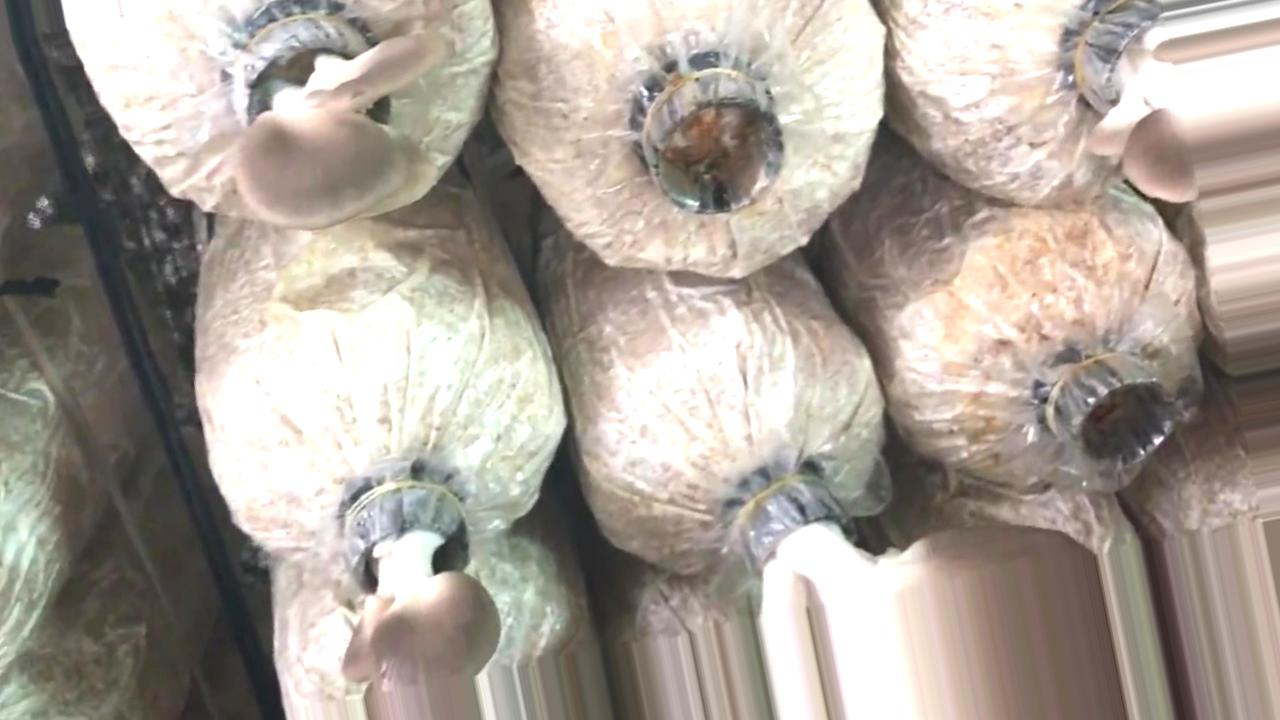nam: (701, 480, 1128, 717), (231, 1, 443, 235), (1084, 5, 1280, 206), (344, 478, 503, 720)
